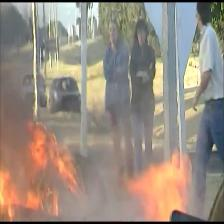fire: (34, 125, 74, 181), (0, 179, 56, 213), (150, 164, 182, 210)
